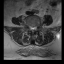CCS_normal: (31, 24, 33, 32)
LFS_normal: (35, 23, 38, 30)
LLS_normal: (33, 24, 35, 32)
RFS_normal: (27, 22, 29, 30)
RLS_normal: (29, 23, 32, 32)
